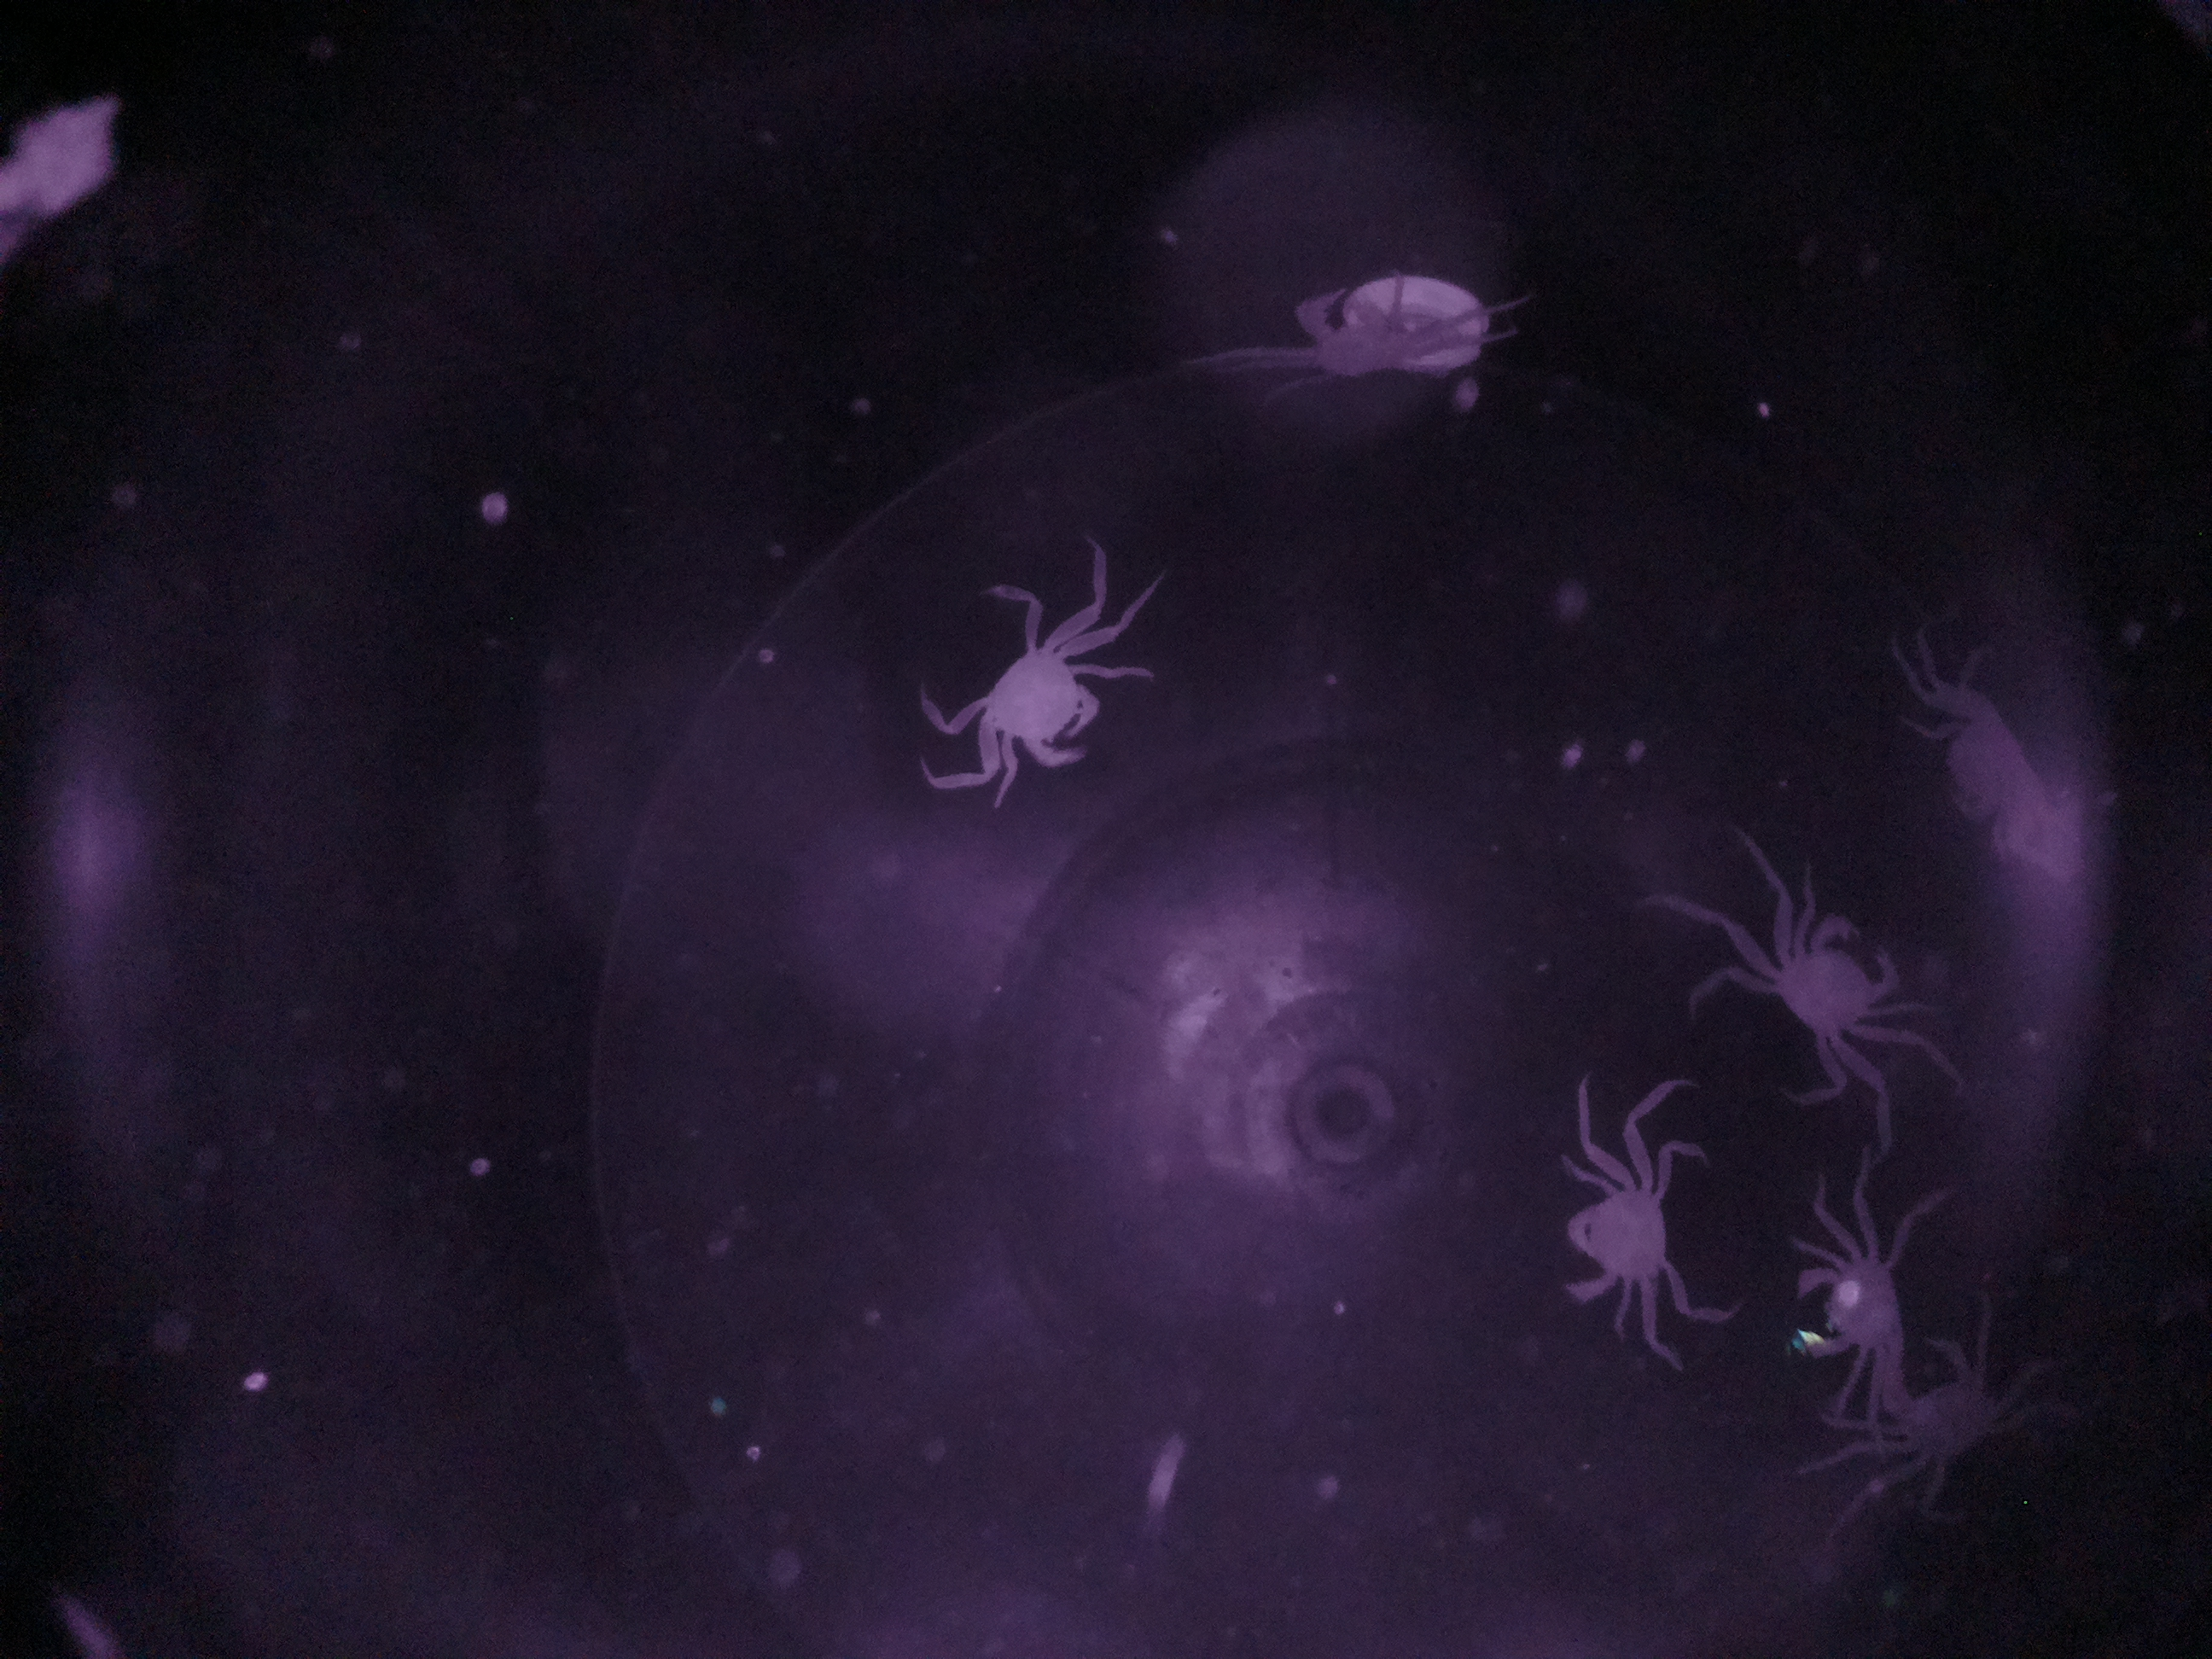Crab: (1740, 880, 1918, 1084), (1552, 1115, 1710, 1330), (949, 605, 1120, 795), (1784, 1204, 1923, 1398)
